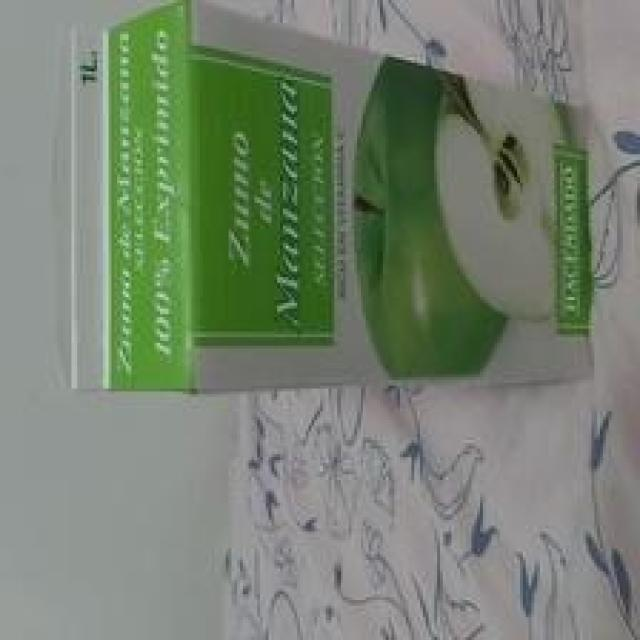PaperCardboard: (65, 2, 605, 384)
